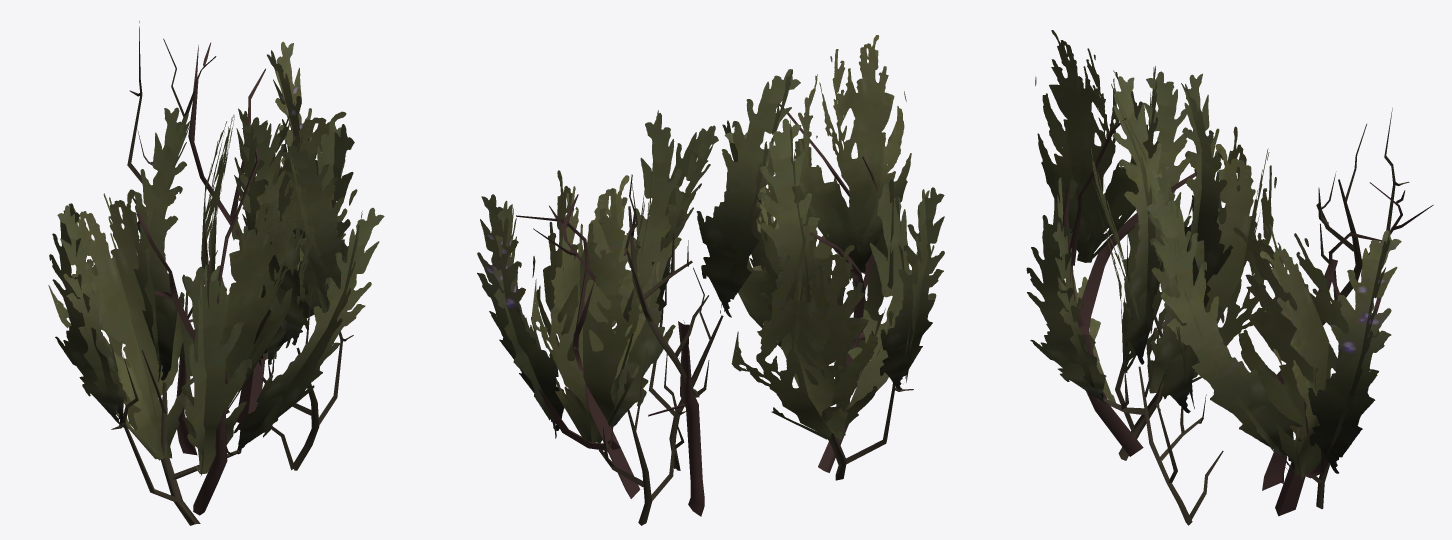
3 renders of one model, left to right at view 1: azimuth 30°, elevation 25°; view 2: azimuth 150°, elevation 25°; view 3: azimuth 270°, elevation 25°, orthographic. The views are drawn at different scales.
Visible parts, largest first — view 1: body0_model0_lod0_mesh0; view 2: body0_model0_lod0_mesh0; view 3: body0_model0_lod0_mesh0.
Boxes of the visible parts, left/top/right/bottom form: body0_model0_lod0_mesh0: left=48, top=21, right=384, bottom=525; body0_model0_lod0_mesh0: left=477, top=35, right=944, bottom=525; body0_model0_lod0_mesh0: left=1026, top=30, right=1433, bottom=525.
Bounding box in the file's own units: 64.18 × 68.27 × 57.61.
Materials: 1 (1 with a texture image).
